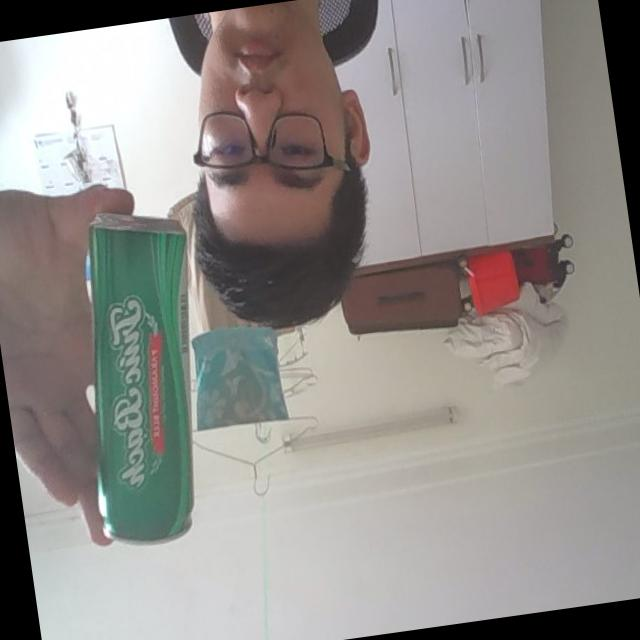Bia-Truc-Bach: (61, 204, 230, 552)
